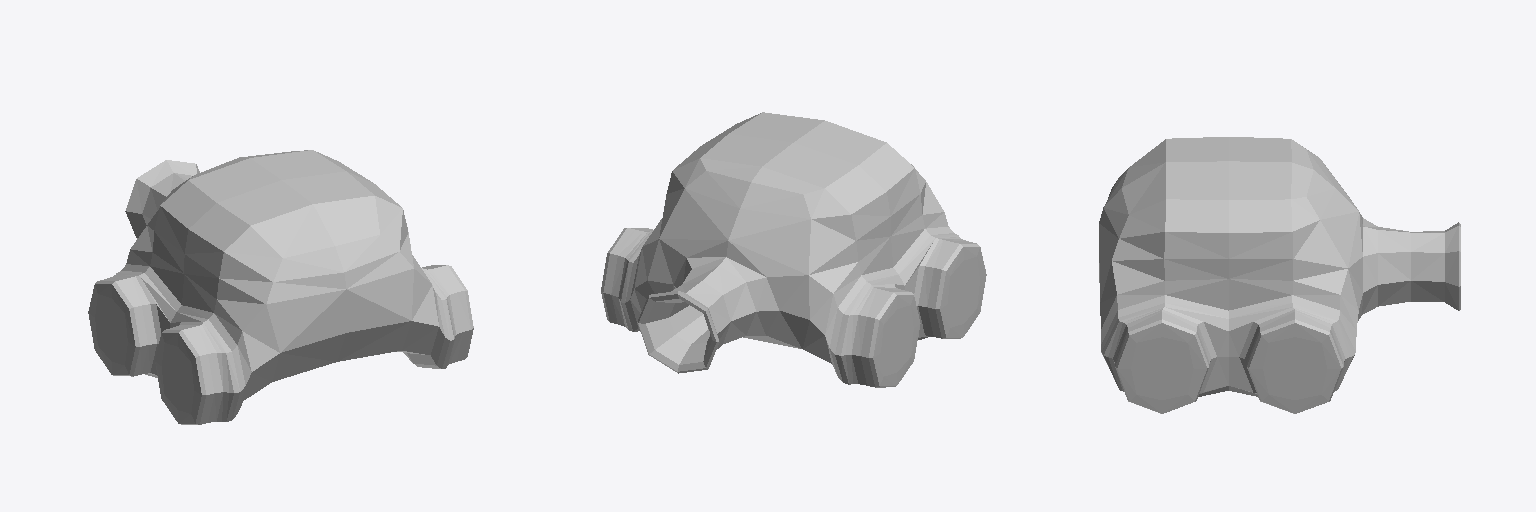
The model's file is GunEnemy.obj.
The picture shows the model from 3 angles: view 1: azimuth 30°, elevation 25°; view 2: azimuth 150°, elevation 25°; view 3: azimuth 270°, elevation 25°; orthographic projection.
Parts seen in each view (by area): view 1: Cube; view 2: Cube; view 3: Cube.
Part boxes in pixels (bbox=[...]): Cube: bbox=[88, 150, 473, 424]; Cube: bbox=[601, 112, 986, 387]; Cube: bbox=[1099, 137, 1460, 413].
Bounding box in the file's own units: 2.38 × 1.57 × 2.72.